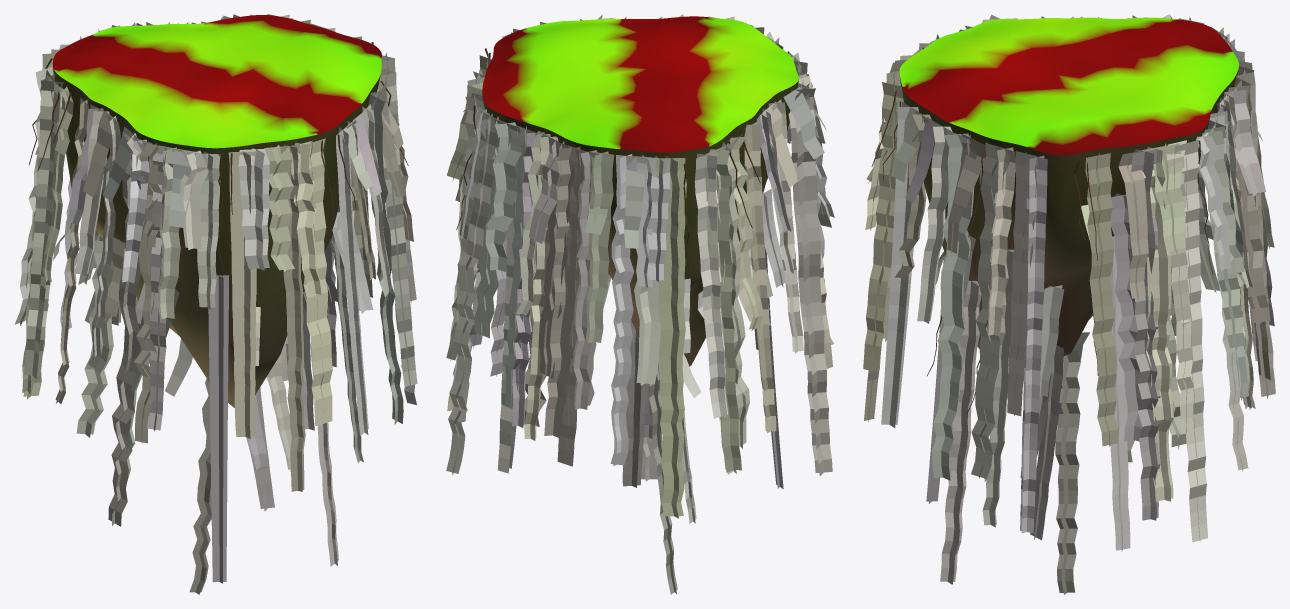
File: SM_H15_Floater06.fbx
3 views of the same model, side by side, from view 1: azimuth 30°, elevation 25°; view 2: azimuth 150°, elevation 25°; view 3: azimuth 270°, elevation 25° (orthographic). The views are drawn at different scales.
Parts seen in each view (by area): view 1: SM_H15_Floater06_Ivy, SM_H15_Floater06; view 2: SM_H15_Floater06_Ivy, SM_H15_Floater06; view 3: SM_H15_Floater06_Ivy, SM_H15_Floater06.
Part boxes in pixels (box(x1,y1,x2,y2)): SM_H15_Floater06_Ivy: box(14, 14, 417, 594); SM_H15_Floater06: box(52, 15, 381, 407); SM_H15_Floater06_Ivy: box(446, 14, 834, 594); SM_H15_Floater06: box(482, 16, 798, 366); SM_H15_Floater06_Ivy: box(863, 14, 1275, 594); SM_H15_Floater06: box(899, 17, 1238, 355).
Size of the model in its own units: 24.69 by 37.42 by 25.92.
